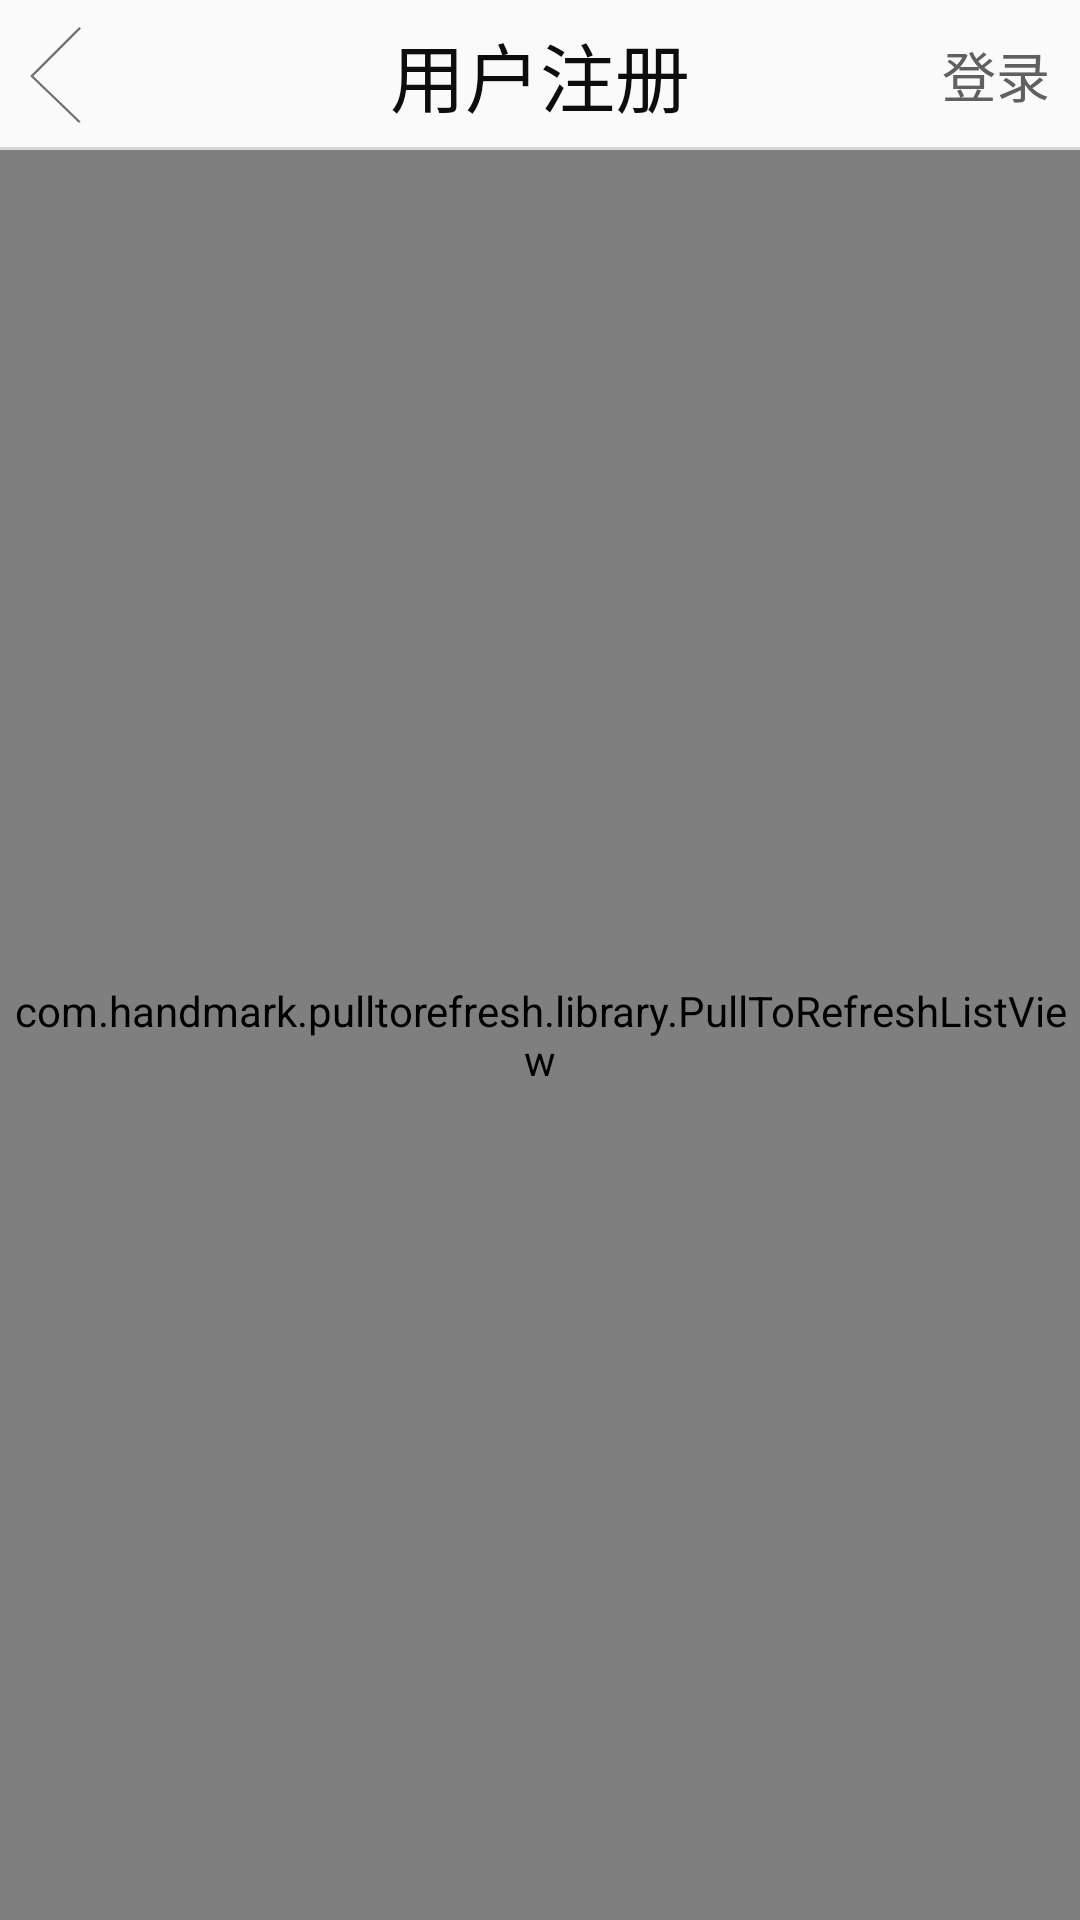

Where to tap for icons on this 1080px x 1920px app screen, as [x,y]:
back: [60,75]
